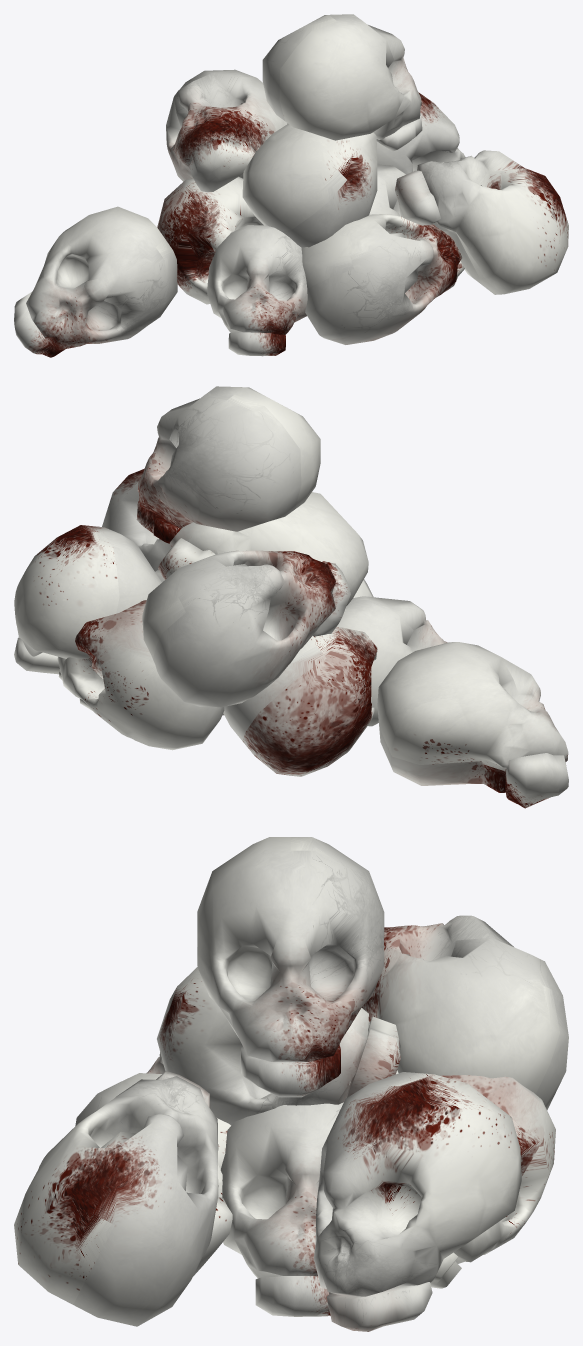
File: MOD_Misc_SkullPile01.fbx
The picture shows the model from 3 angles, top to bottom: view 1: azimuth 30°, elevation 25°; view 2: azimuth 150°, elevation 25°; view 3: azimuth 270°, elevation 25°; orthographic projection. The views are drawn at different scales.
Parts seen in each view (by area): view 1: SkullPile01; view 2: SkullPile01; view 3: SkullPile01.
Part boxes in pixels (x1=…): SkullPile01: x1=14, y1=14, x2=568, y2=357; SkullPile01: x1=14, y1=386, x2=568, y2=808; SkullPile01: x1=14, y1=837, x2=568, y2=1331.
Bounding box in the file's own units: 4.67 × 2.71 × 3.18.
